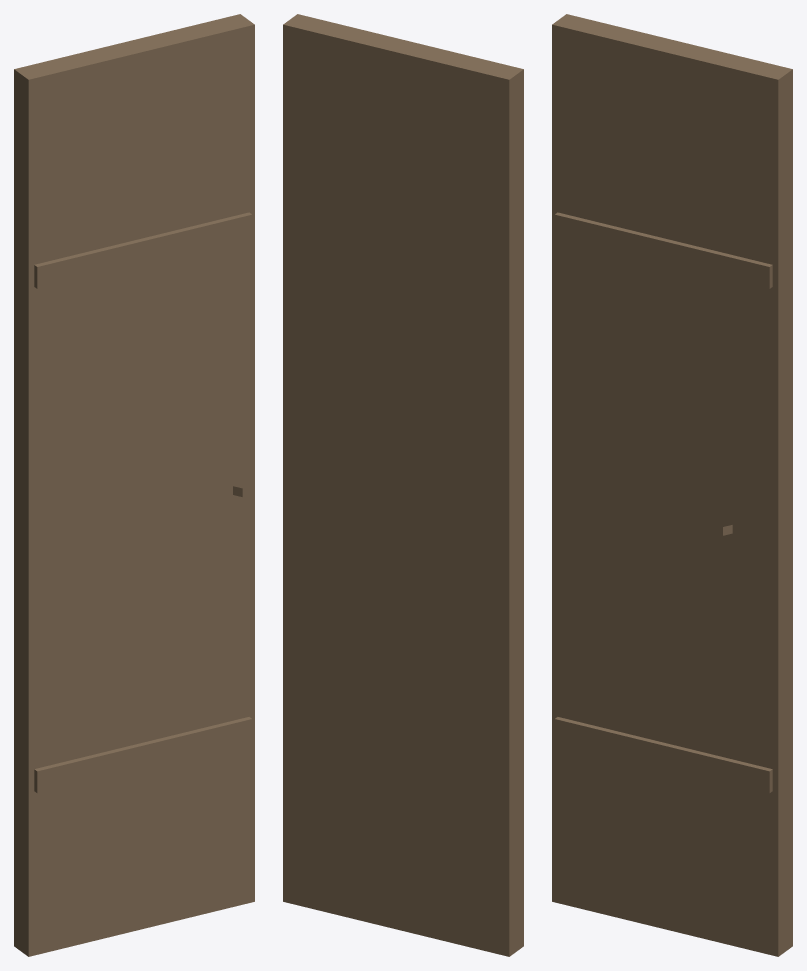
Rendered from door_leaf.glb.
3 views of the same model, side by side, from view 1: azimuth 30°, elevation 25°; view 2: azimuth 150°, elevation 25°; view 3: azimuth 330°, elevation 25° (orthographic).
Parts seen in each view (by area): view 1: Door_Leaf; view 2: Door_Leaf; view 3: Door_Leaf.
Part boxes in pixels (box(x1,y1,x2,y2)): Door_Leaf: box(14, 14, 254, 956); Door_Leaf: box(283, 14, 523, 956); Door_Leaf: box(552, 14, 792, 956).
Bounding box in the file's own units: 0.54 × 2 × 0.1146.
